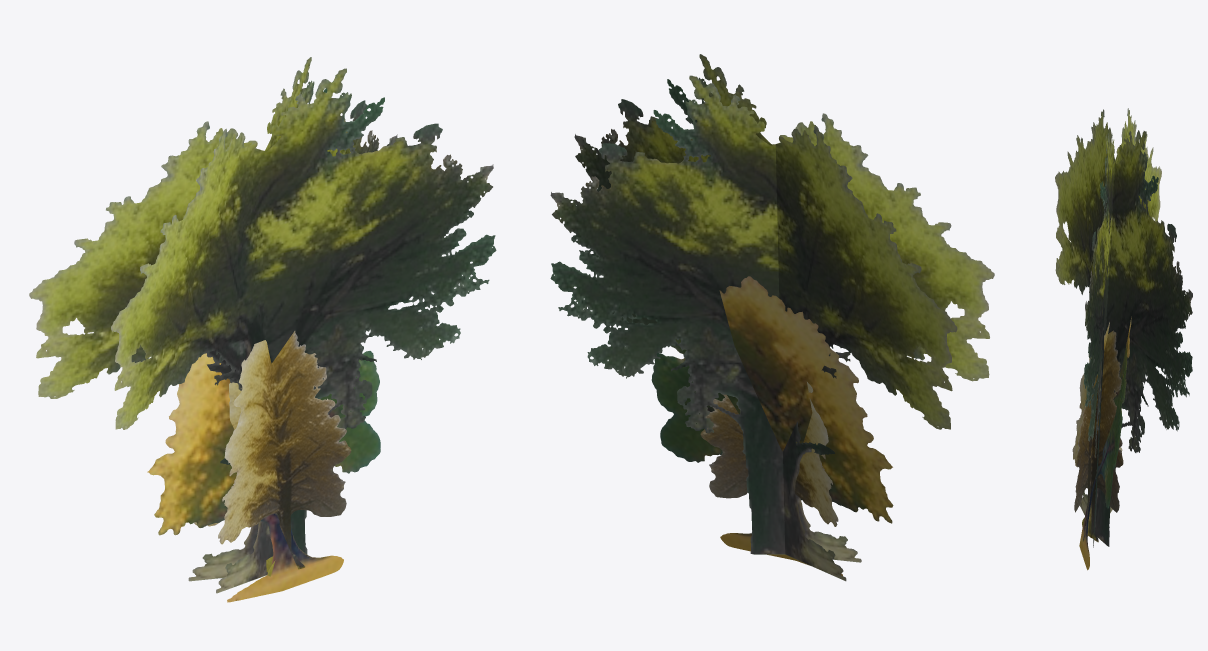
Rendered from ModelsTrees.fbx.
The picture shows the model from 3 angles, left to right: view 1: azimuth 30°, elevation 25°; view 2: azimuth 150°, elevation 25°; view 3: azimuth 270°, elevation 25°; orthographic projection. The views are drawn at different scales.
Visible parts, largest first — view 1: PlaneTree3, PlaneTree3_1, PlaneTree1, PlaneTree2; view 2: PlaneTree3_1, PlaneTree3, PlaneTree2, PlaneTree1; view 3: PlaneTree3_1, PlaneTree3, PlaneTree1, PlaneTree2.
Part boxes in pixels (<box>): PlaneTree3: <box>29,68,496,581</box>; PlaneTree3_1: <box>111,57,397,593</box>; PlaneTree1: <box>194,331,351,576</box>; PlaneTree2: <box>147,351,380,602</box>; PlaneTree3_1: <box>550,75,994,562</box>; PlaneTree3: <box>574,54,957,581</box>; PlaneTree2: <box>651,276,893,575</box>; PlaneTree1: <box>700,382,838,526</box>; PlaneTree3_1: <box>1055,109,1192,546</box>; PlaneTree3: <box>1084,108,1161,547</box>; PlaneTree1: <box>1072,322,1123,542</box>; PlaneTree2: <box>1079,316,1131,570</box>.
Size of the model in its own units: 1039 by 1106 by 325.
Materials: 3 (3 with a texture image).
